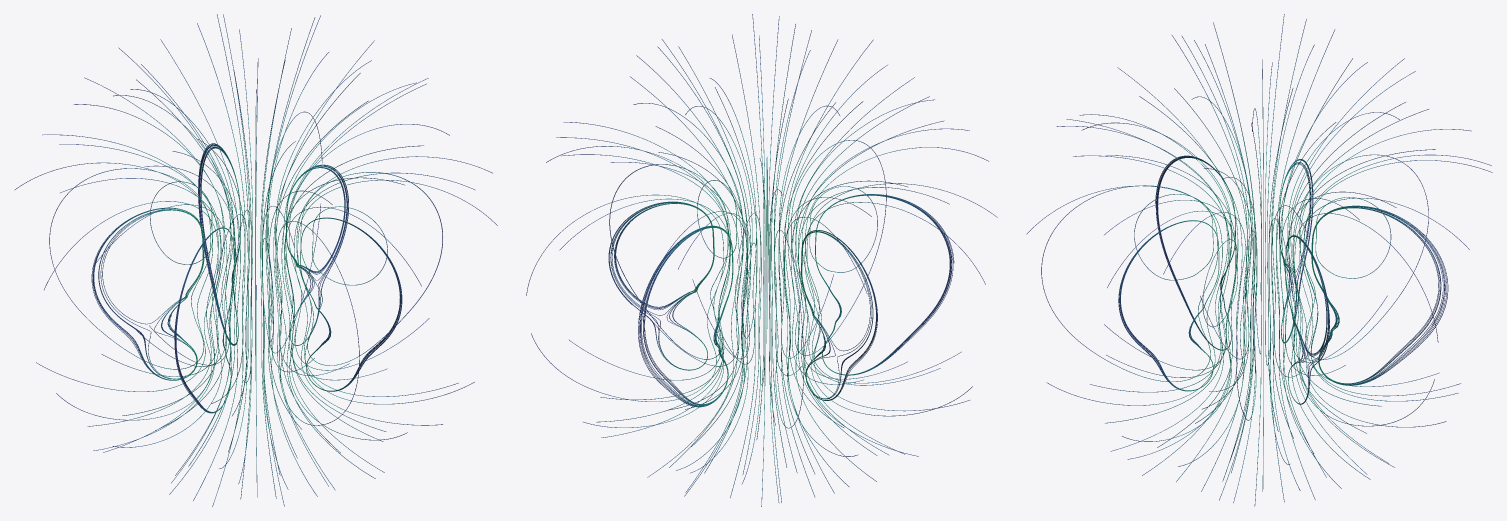
File: coil_3_field_lines.gltf
3 renders of one model, left to right at view 1: azimuth 30°, elevation 25°; view 2: azimuth 150°, elevation 25°; view 3: azimuth 270°, elevation 25°, orthographic.
Parts seen in each view (by area): view 1: Renderer Node; view 2: Renderer Node; view 3: Renderer Node.
Boxes of the visible parts, x1,y1,x2,y2 form: Renderer Node: [14, 14, 497, 506]; Renderer Node: [526, 14, 997, 506]; Renderer Node: [1026, 14, 1492, 506].
Bounding box in the file's own units: 2.05 × 2.06 × 1.97.
1 material, 1 textured.
